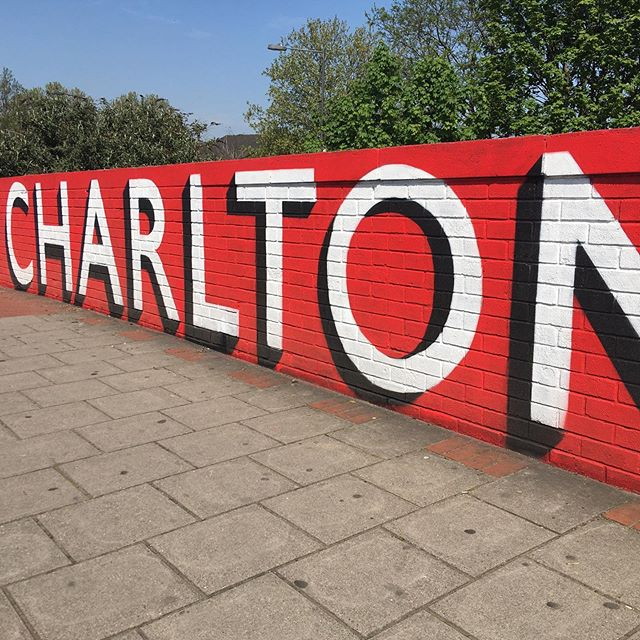sky: (1, 1, 269, 88)
vegetation: (273, 1, 631, 155), (1, 73, 201, 168)
wall: (13, 132, 640, 509)
